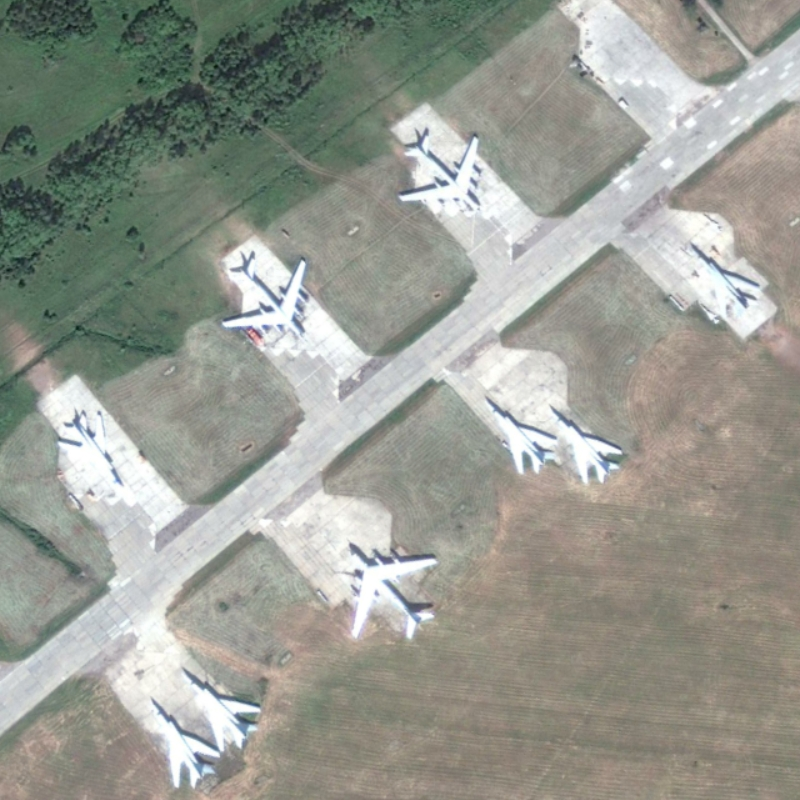A12: (179, 666, 263, 754), (147, 696, 222, 790), (546, 404, 624, 485), (482, 397, 560, 475), (688, 245, 763, 320), (56, 412, 124, 489)
A17: (348, 549, 440, 641), (220, 256, 305, 338), (397, 133, 482, 212)
